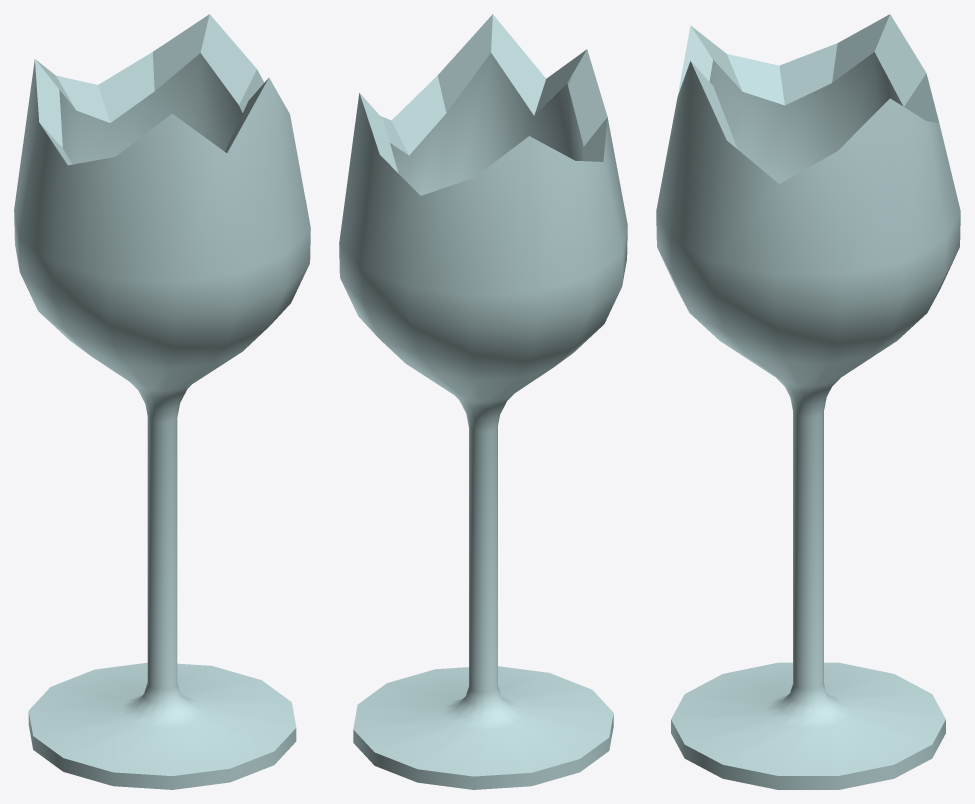
Rendered from WineGlassBroken.fbx.
3 views of the same model, side by side, from view 1: azimuth 30°, elevation 25°; view 2: azimuth 150°, elevation 25°; view 3: azimuth 270°, elevation 25° (orthographic). The views are drawn at different scales.
Visible parts, largest first — view 1: WineGlassBroken; view 2: WineGlassBroken; view 3: WineGlassBroken.
Part boxes in pixels (x1=…): WineGlassBroken: x1=14, y1=14, x2=310, y2=789; WineGlassBroken: x1=339, y1=14, x2=627, y2=789; WineGlassBroken: x1=656, y1=14, x2=960, y2=789.
Bounding box in the file's own units: 0.0548 × 0.1417 × 0.0562.
